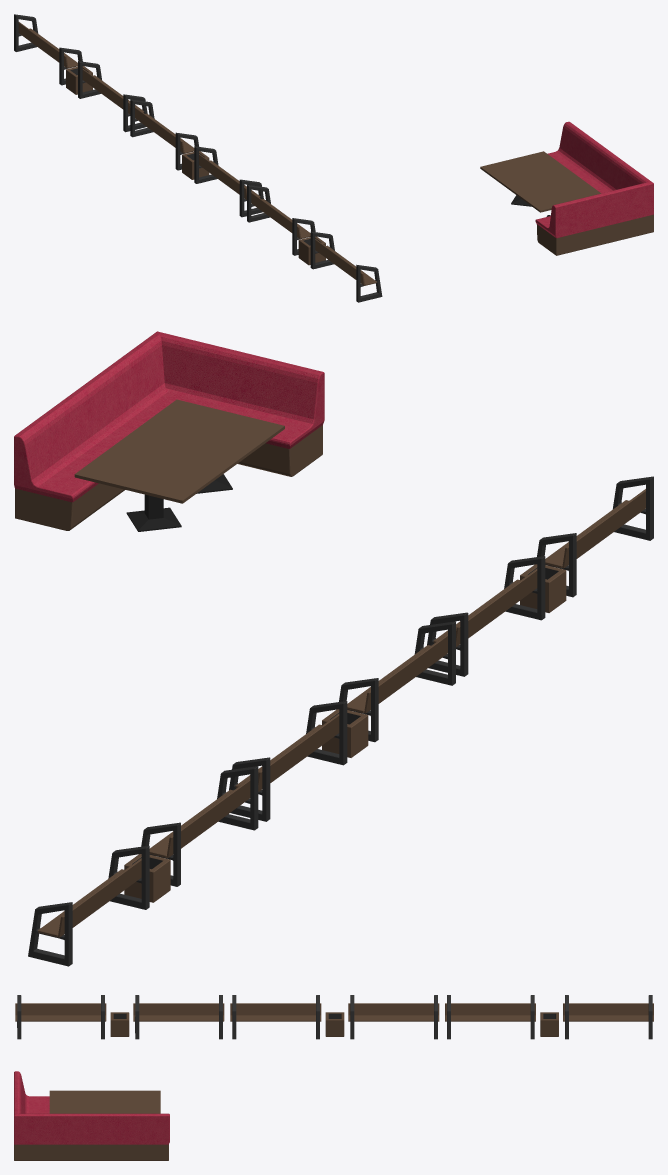
The model's file is suoliukai_stalai_ir_siuksliadeze.fbx.
3 views of the same model, one above another, from view 1: azimuth 30°, elevation 25°; view 2: azimuth 150°, elevation 25°; view 3: azimuth 270°, elevation 25° (orthographic). The views are drawn at different scales.
Parts seen in each view (by area): view 1: Foteliukas, Foteliuko_stalas, Suoliukas.001, suoliukas.002, suoliukas.001, suoliukas.004, suoliukas, suoliukas.003, siuksliadeze.001, siuksliadeze; view 2: Foteliukas, Foteliuko_stalas, suoliukas.004, suoliukas.003, suoliukas.002, suoliukas, Suoliukas.001, suoliukas.001, siuksliadeze.002, siuksliadeze, siuksliadeze.001; view 3: Foteliukas, Foteliuko_stalas, suoliukas.001, suoliukas.002, Suoliukas.001, suoliukas, suoliukas.003, suoliukas.004, siuksliadeze.001, siuksliadeze, siuksliadeze.002.
Boxes of the visible parts, x1,y1,x2,y2 form: Foteliukas: (535,121,653,255); Foteliuko_stalas: (480,151,600,216); Suoliukas.001: (310,231,382,302); suoliukas.002: (130,99,199,170); suoliukas.001: (194,146,263,217); suoliukas.004: (14,14,82,85); suoliukas: (247,184,315,255); suoliukas.003: (78,61,147,132); siuksliadeze.001: (182,151,209,179); siuksliadeze: (298,236,325,265); Foteliukas: (14,331,324,530); Foteliuko_stalas: (74,399,284,531); suoliukas.004: (28,845,149,966); suoliukas.003: (141,766,258,886); suoliukas.002: (229,701,347,821); suoliukas: (427,556,545,676); Suoliukas.001: (537,476,653,597); suoliukas.001: (339,621,455,742); siuksliadeze.002: (124,854,170,902); siuksliadeze: (520,564,566,612); siuksliadeze.001: (322,709,368,757); Foteliukas: (14,1071,169,1160); Foteliuko_stalas: (49,1090,160,1113); suoliukas.001: (230,995,321,1039); suoliukas.002: (348,995,439,1039); Suoliukas.001: (15,995,106,1039); suoliukas: (133,995,224,1039); suoliukas.003: (445,995,535,1039); suoliukas.004: (563,995,653,1039); siuksliadeze.001: (325,1012,344,1036); siuksliadeze: (110,1012,129,1036); siuksliadeze.002: (540,1012,558,1036).
Bounding box in the file's own units: 8.4 × 1.35 × 17.15.
